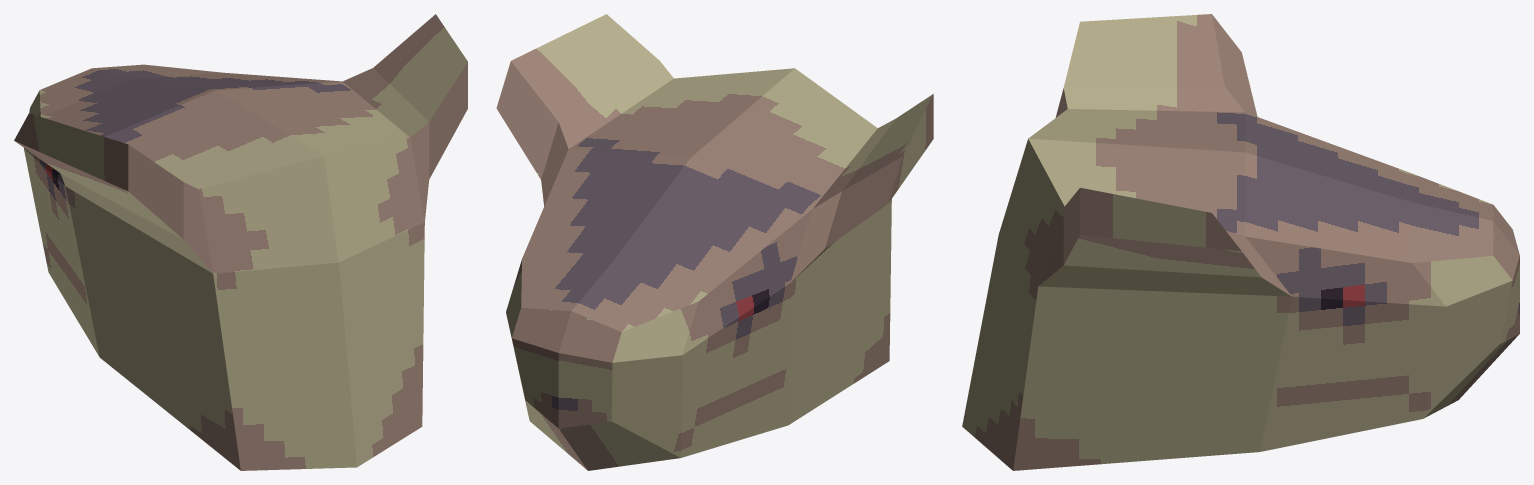
Rendered from armadillo_head.glb.
The picture shows the model from 3 angles, left to right: view 1: azimuth 30°, elevation 25°; view 2: azimuth 150°, elevation 25°; view 3: azimuth 270°, elevation 25°; orthographic projection. The views are drawn at different scales.
Visible parts, largest first — view 1: Cube.127; view 2: Cube.127; view 3: Cube.127.
Boxes of the visible parts, bbox=[...] form: Cube.127: bbox=[14, 14, 467, 470]; Cube.127: bbox=[496, 14, 933, 470]; Cube.127: bbox=[962, 14, 1519, 470].
Bounding box in the file's own units: 2.45 × 1.85 × 2.9.
Materials: 1 (1 with a texture image).
